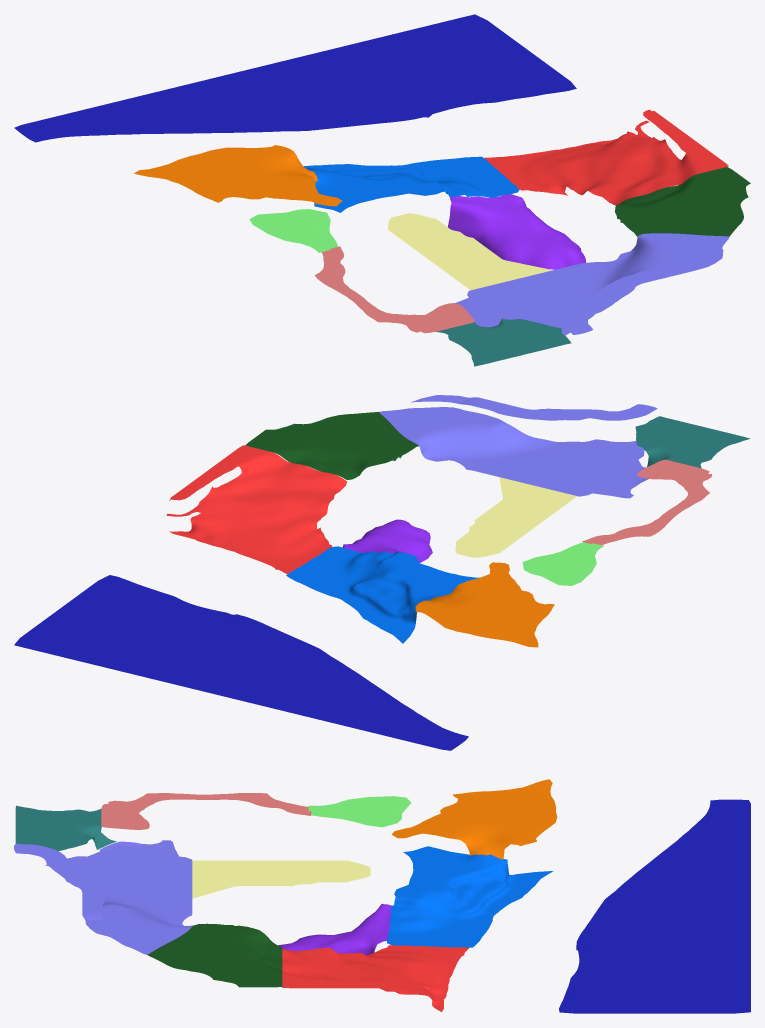
File: F_Land_Road_001.fbx
The picture shows the model from 3 angles, top to bottom: view 1: azimuth 30°, elevation 25°; view 2: azimuth 150°, elevation 25°; view 3: azimuth 270°, elevation 25°; orthographic projection. The views are drawn at different scales.
Visible parts, largest first — view 1: F_Outside_Road, F_Village_Square, F_Footpath, F_Forest_Secret_002, F_Vilage_Entrance, F_Jewelry_Store, F_Spiritual_Tree, F_Village, F_Outskirts_Road, F_Forest_Road, F_Forest_Secret_001; view 2: F_Outside_Road, F_Village_Square, F_Footpath, F_Vilage_Entrance, F_Jewelry_Store, F_Forest_Secret_002, F_Village, F_Outskirts_Road, F_Forest_Road, F_Spiritual_Tree, F_Forest_Secret_001; view 3: F_Outside_Road, F_Village_Square, F_Vilage_Entrance, F_Footpath, F_Forest_Secret_002, F_Jewelry_Store, F_Village, F_Outskirts_Road, F_Forest_Road, F_Spiritual_Tree, F_Forest_Secret_001.
Boxes of the visible parts, <box> form: F_Outside_Road: <box>14,14,576,142</box>; F_Village_Square: <box>455,233,729,335</box>; F_Footpath: <box>484,109,728,205</box>; F_Forest_Secret_002: <box>134,145,342,206</box>; F_Vilage_Entrance: <box>303,156,519,212</box>; F_Jewelry_Store: <box>615,167,750,236</box>; F_Spiritual_Tree: <box>448,194,585,269</box>; F_Village: <box>388,213,552,290</box>; F_Outskirts_Road: <box>436,318,571,366</box>; F_Forest_Road: <box>315,246,474,333</box>; F_Forest_Secret_001: <box>249,209,338,252</box>; F_Outside_Road: <box>14,575,468,750</box>; F_Village_Square: <box>379,395,657,498</box>; F_Footpath: <box>166,445,346,574</box>; F_Vilage_Entrance: <box>286,546,479,643</box>; F_Jewelry_Store: <box>245,412,418,479</box>; F_Forest_Secret_002: <box>415,562,554,647</box>; F_Village: <box>455,477,576,557</box>; F_Outskirts_Road: <box>635,416,750,468</box>; F_Forest_Road: <box>582,459,711,545</box>; F_Spiritual_Tree: <box>343,519,432,562</box>; F_Forest_Secret_001: <box>522,542,603,585</box>; F_Outside_Road: <box>559,799,750,1013</box>; F_Village_Square: <box>14,840,192,954</box>; F_Vilage_Entrance: <box>386,846,553,947</box>; F_Footpath: <box>282,945,469,1012</box>; F_Forest_Secret_002: <box>391,779,557,859</box>; F_Jewelry_Store: <box>147,923,282,987</box>; F_Village: <box>192,860,370,898</box>; F_Outskirts_Road: <box>15,805,116,851</box>; F_Forest_Road: <box>101,793,311,829</box>; F_Spiritual_Tree: <box>278,904,391,955</box>; F_Forest_Secret_001: <box>308,796,411,827</box>.
Bounding box in the file's own units: 7771 × 1003 × 11233.
